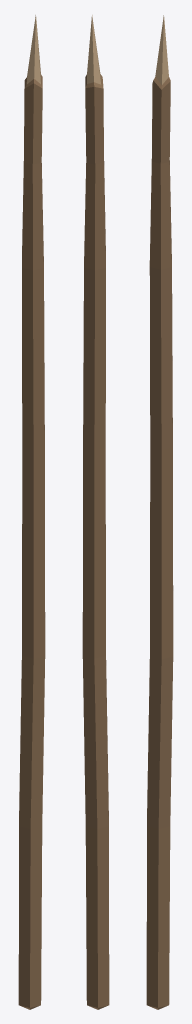
File: SM_pwe_slavic_spear_02.fbx
The picture shows the model from 3 angles, left to right: view 1: azimuth 30°, elevation 25°; view 2: azimuth 150°, elevation 25°; view 3: azimuth 330°, elevation 25°; orthographic projection.
Visible parts, largest first — view 1: SM_pwe_slavic_spear_02; view 2: SM_pwe_slavic_spear_02; view 3: SM_pwe_slavic_spear_02.
Boxes of the visible parts, x1=… form: SM_pwe_slavic_spear_02: x1=18, y1=15, x2=45, y2=1009; SM_pwe_slavic_spear_02: x1=82, y1=15, x2=109, y2=1009; SM_pwe_slavic_spear_02: x1=146, y1=15, x2=173, y2=1009.
Size of the model in its own units: 5.3 by 190 by 4.04.
